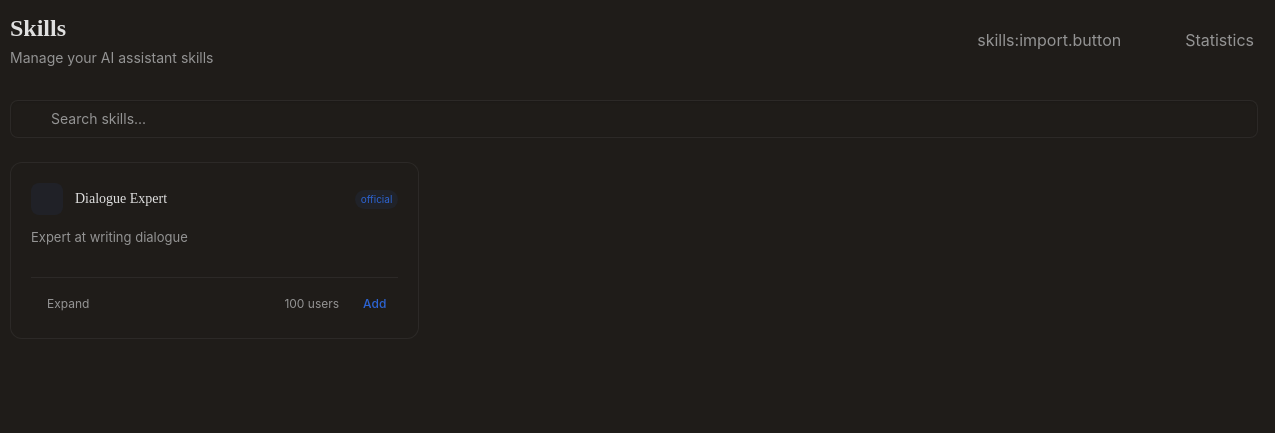
Test case: SkillsPage › Launch hardening › fetches full instructions when expanding a truncated public skill
expect the heading "Dialogue Expert" is shown: met, box [75, 191, 167, 206]
Click the button "Expand" at (60, 304), box [31, 296, 89, 312]
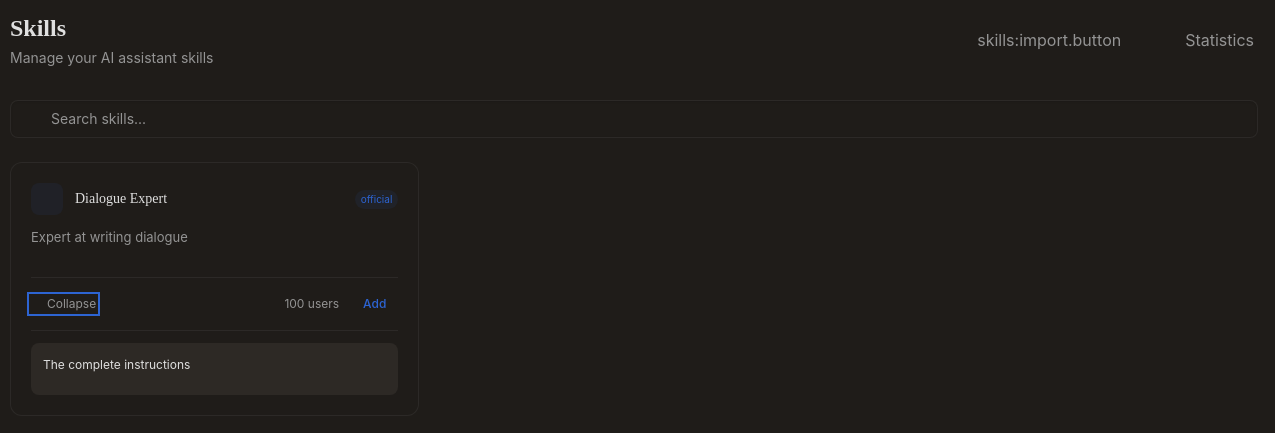
expect the text "The complete instructions" is shown: met, box [43, 357, 190, 372]
